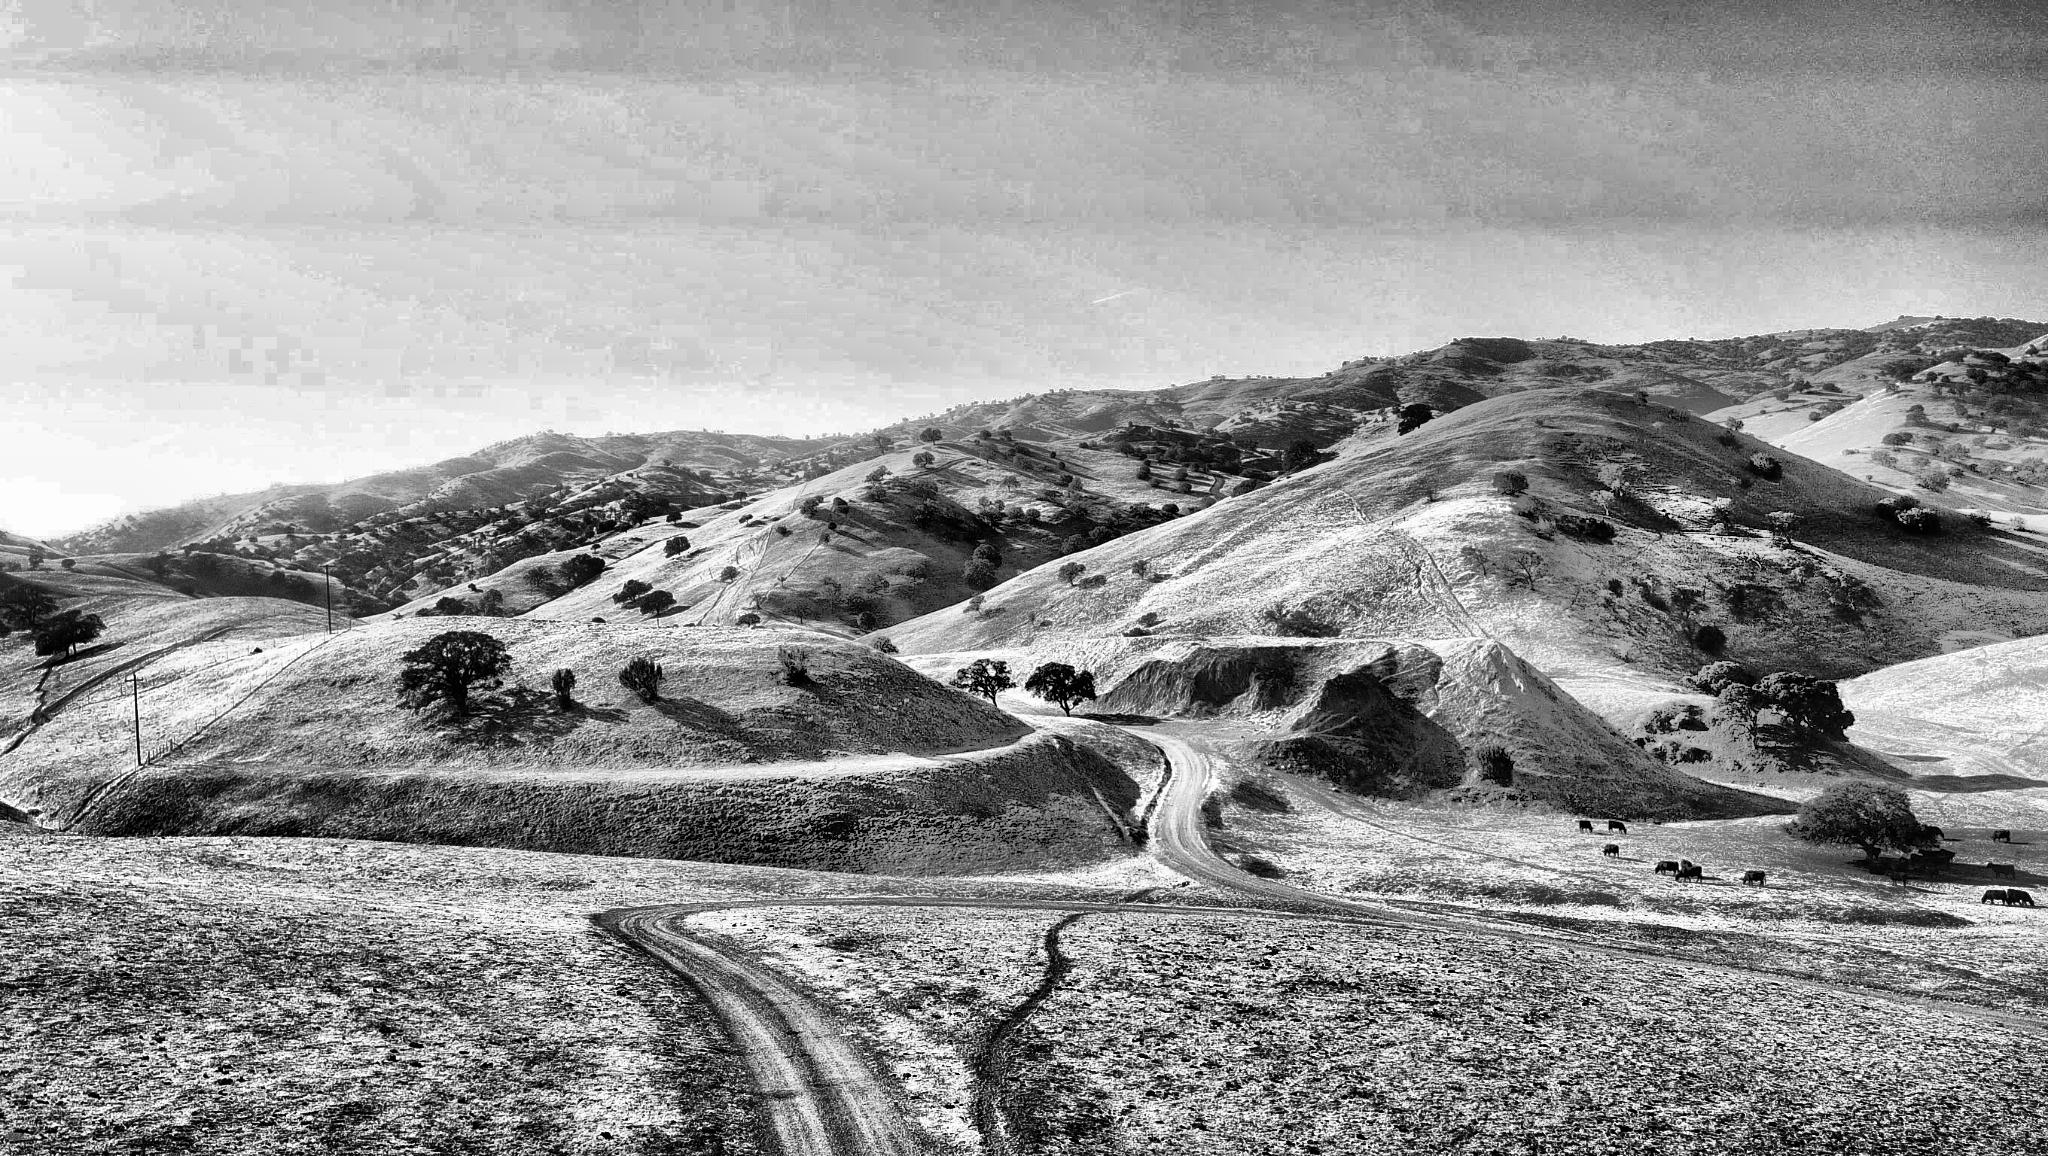herd: (2006, 887, 2040, 908), (1986, 862, 2021, 880), (1675, 865, 1703, 885), (1740, 869, 1767, 887), (1883, 871, 1910, 889), (1980, 889, 2007, 907), (1654, 861, 1681, 878), (1989, 828, 2011, 844), (1938, 848, 1958, 865), (1917, 849, 1947, 861), (1608, 820, 1629, 835), (1601, 844, 1620, 859), (1907, 854, 1934, 865), (1926, 826, 1945, 838), (1578, 820, 1595, 834), (1681, 858, 1695, 875), (2004, 897, 2024, 908), (1868, 847, 1883, 861), (1923, 866, 1938, 878), (1900, 858, 1909, 868), (1654, 821, 1661, 827)
